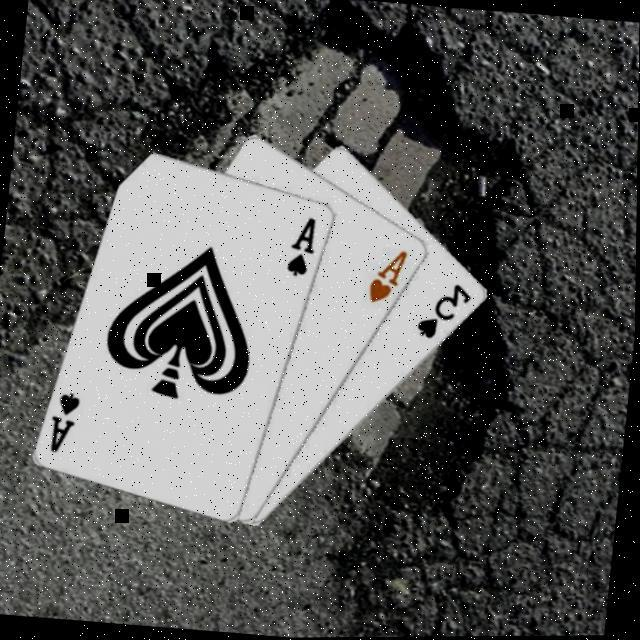3S: (413, 279, 477, 347)
AH: (365, 246, 413, 310)
AS: (47, 388, 86, 458), (284, 214, 323, 282)
